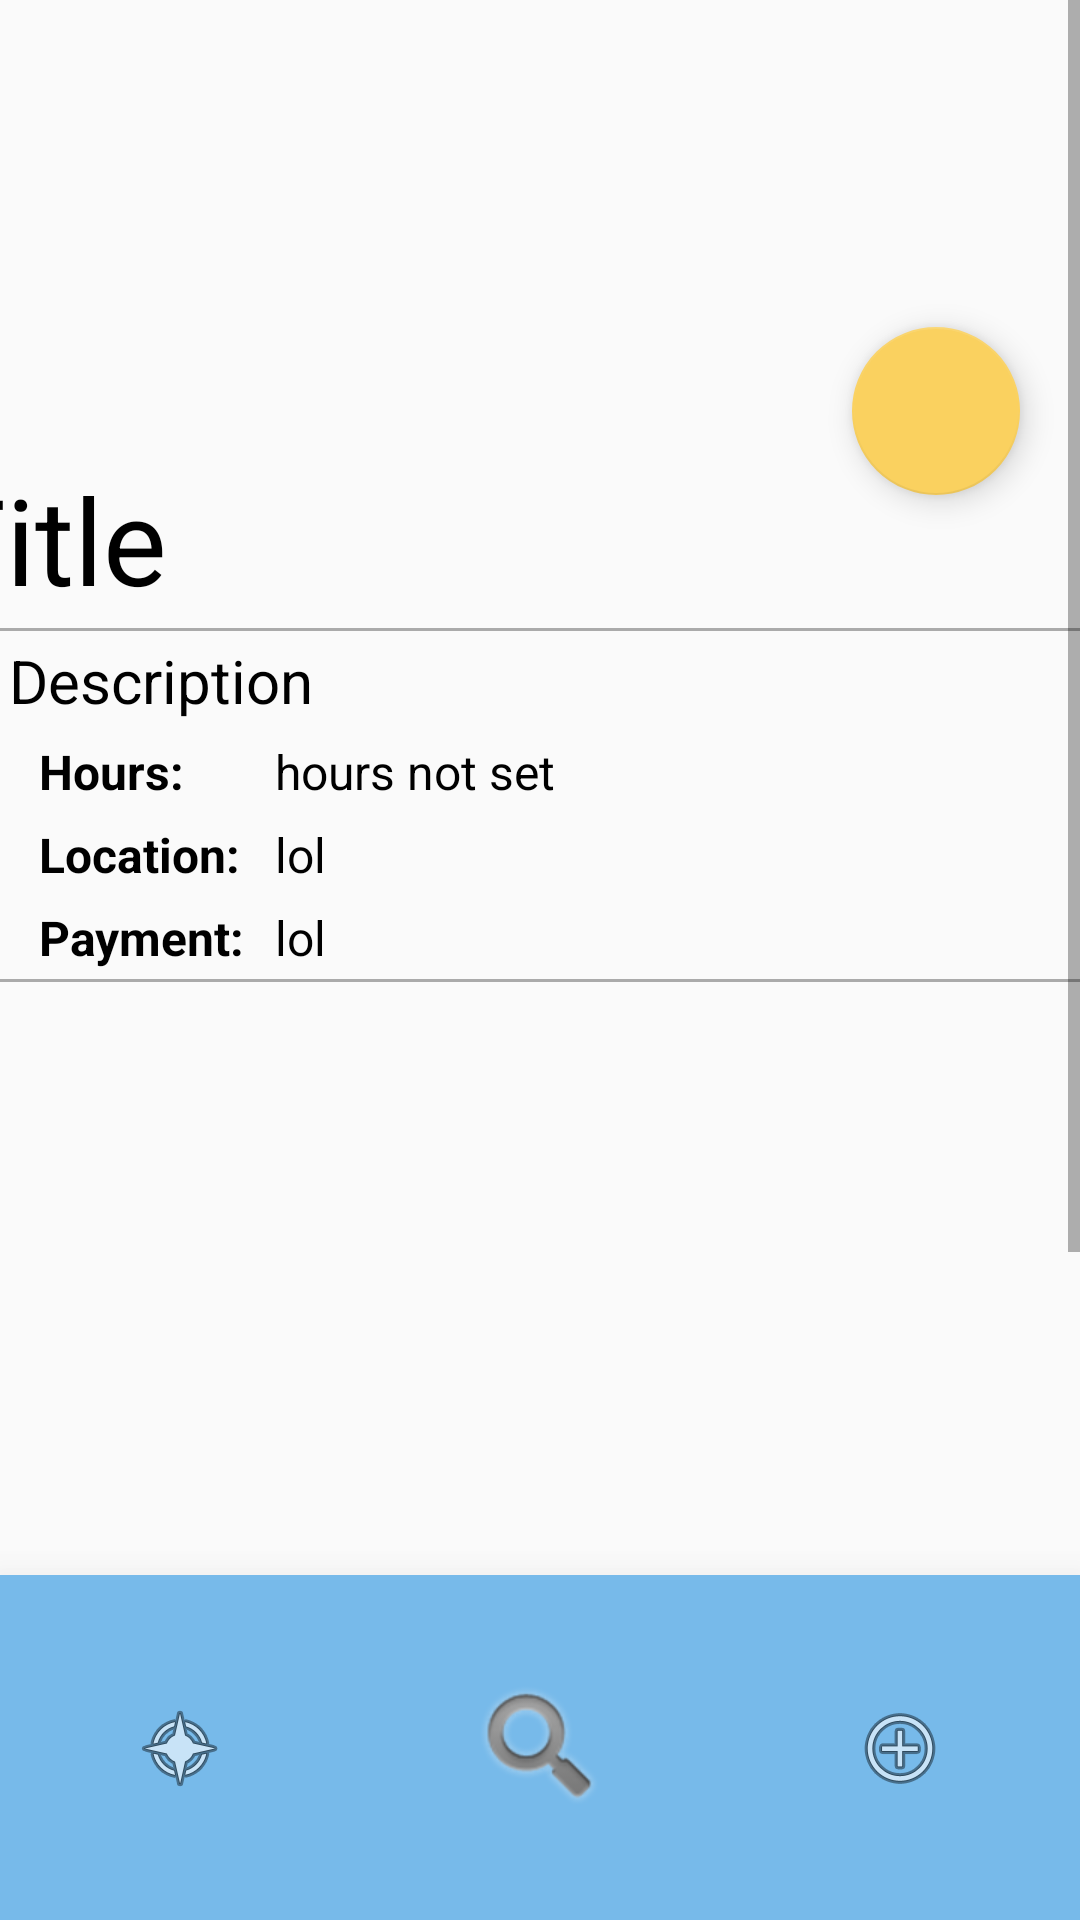

Icons on this 1080x1920 Android screen, each with the point to tap as (x,y):
add: (900,1748)
compass: (180,1748)
search category: (539,1746)
